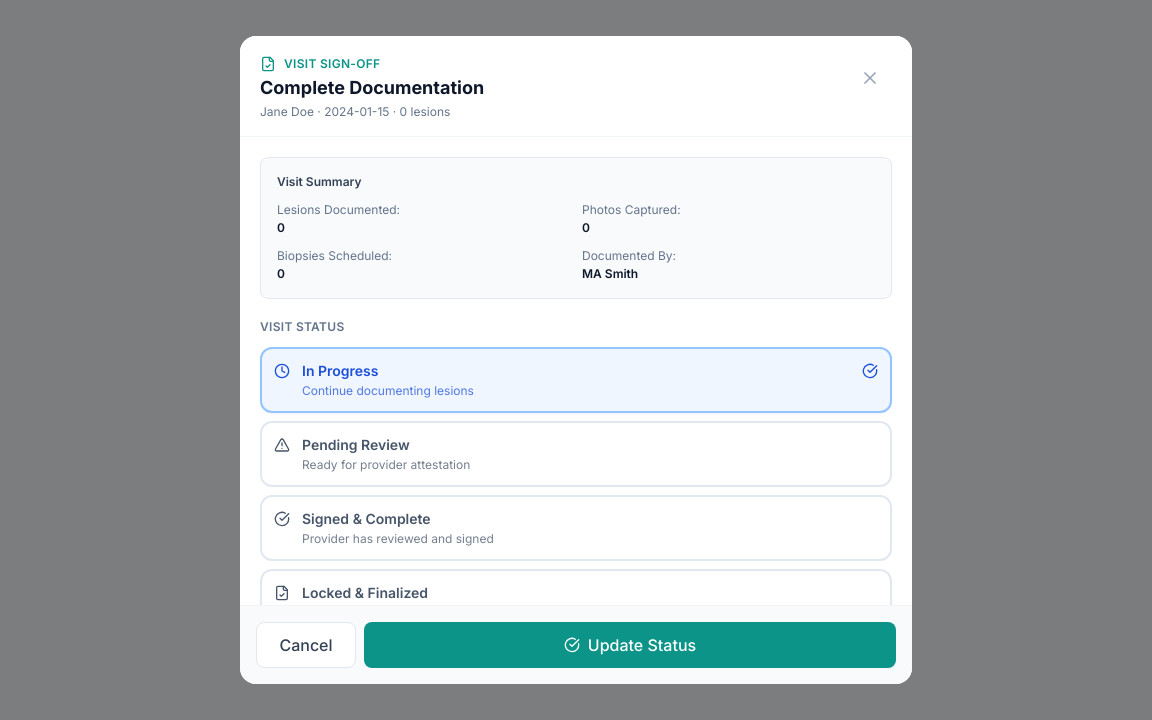
VisitSignOffModal › requires provider attestation for signed status
The width and height of the screenshot is (1152, 720).
Note: Select signed status
Click the button "Signed & Complete Provider has reviewed and signed". click: (366, 518)
box: [260,495,892,561]
(page scrolled)
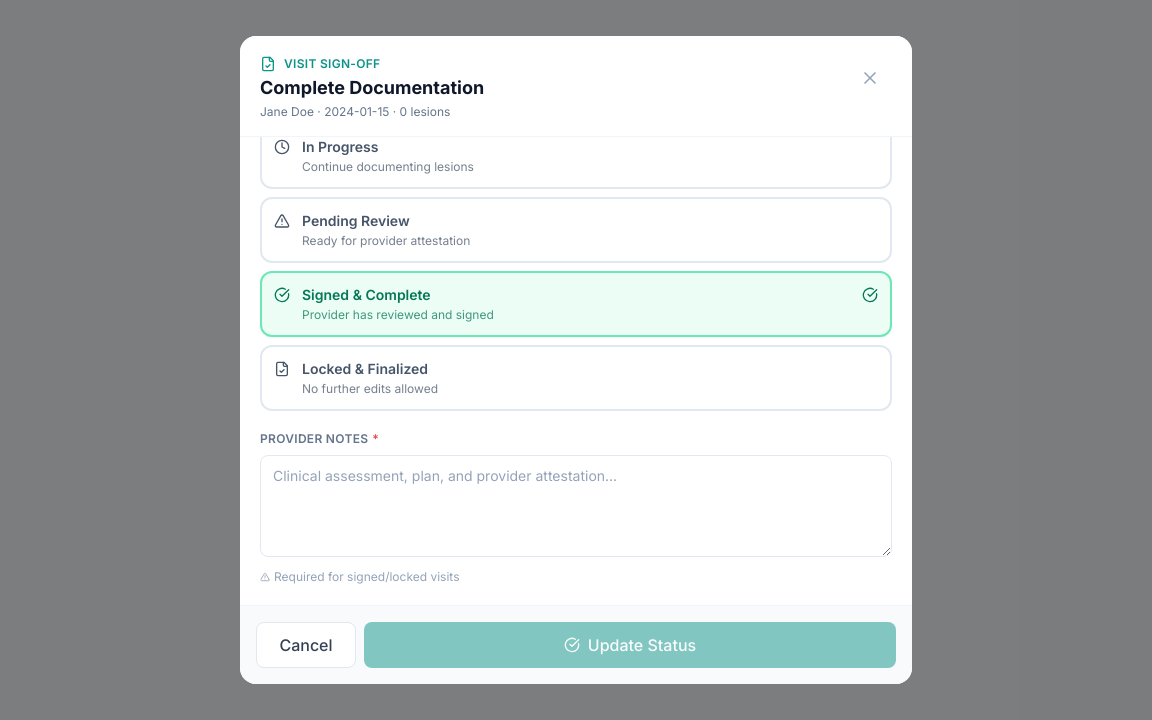
Check: the text box with placeholder "Clinical assessment, plan, and provider attestation..." is shown, box [260,455,892,557]
